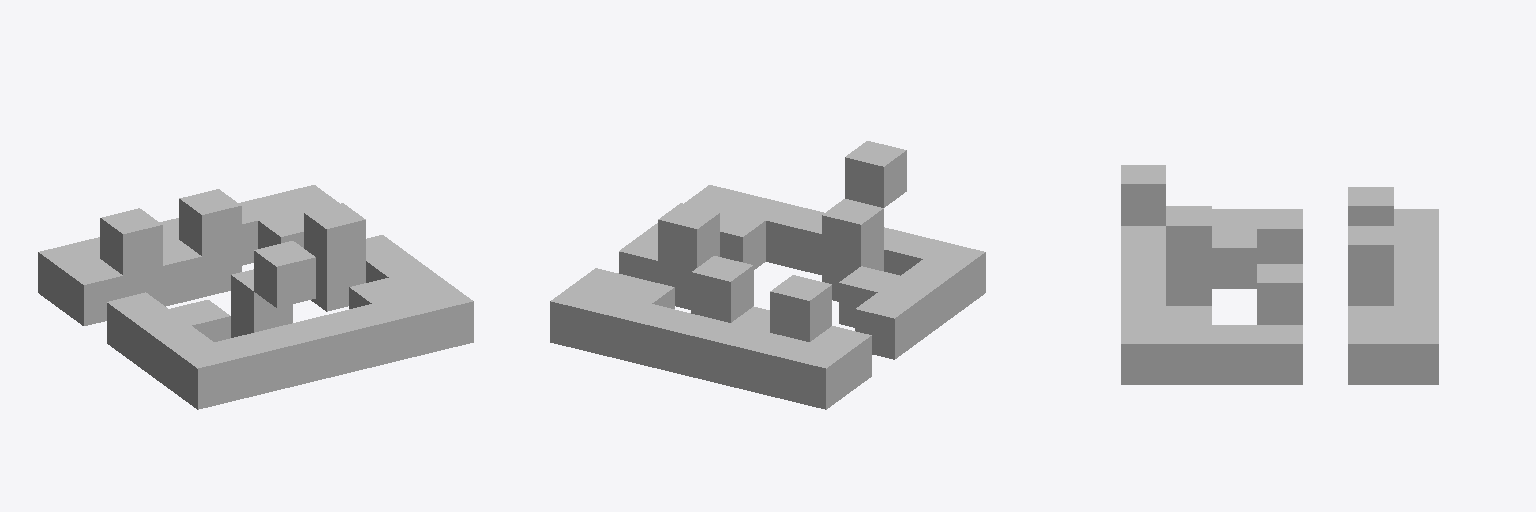
Rendered from environ-deck1-broken-2.obj.
3 renders of one model, left to right at view 1: azimuth 30°, elevation 25°; view 2: azimuth 150°, elevation 25°; view 3: azimuth 270°, elevation 25°, orthographic.
Parts seen in each view (by area): view 1: deck1-broken-2; view 2: deck1-broken-2; view 3: deck1-broken-2.
Boxes of the visible parts, x1,y1,x2,y2 form: deck1-broken-2: [38, 185, 473, 409]; deck1-broken-2: [550, 141, 985, 409]; deck1-broken-2: [1121, 165, 1438, 384].
Size of the model in its own units: 0.7 by 0.3 by 0.7.